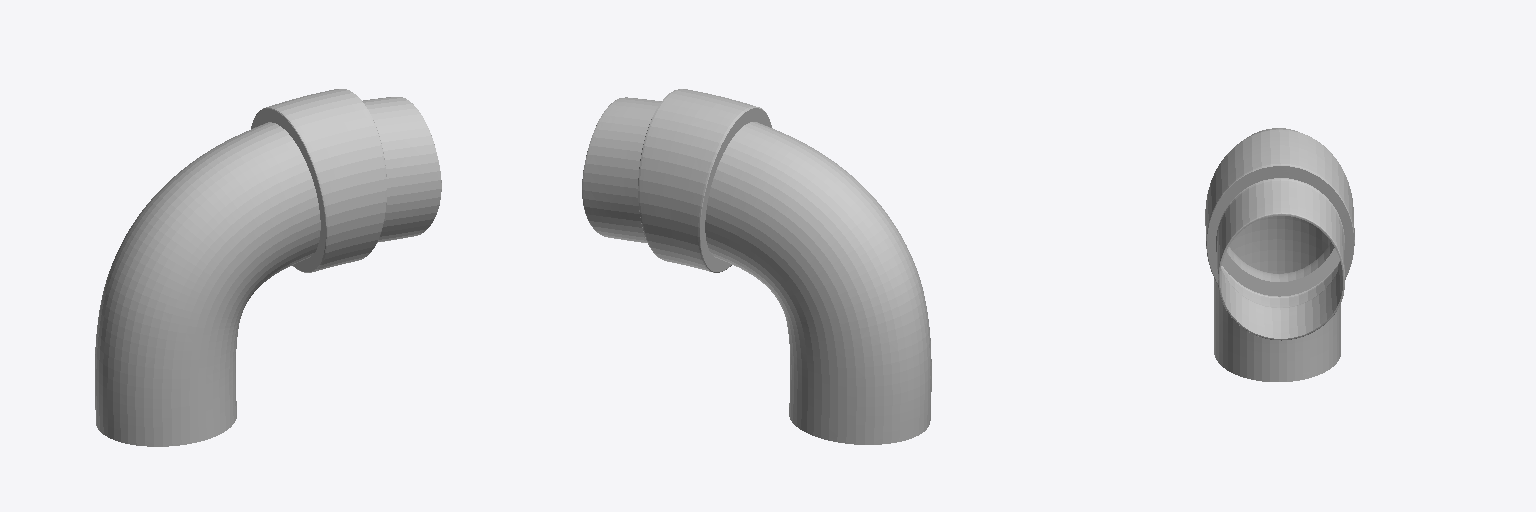
File: pot_tube.obj
The picture shows the model from 3 angles: view 1: azimuth 30°, elevation 25°; view 2: azimuth 150°, elevation 25°; view 3: azimuth 270°, elevation 25°; orthographic projection.
Parts seen in each view (by area): view 1: Drainage_Tube; view 2: Drainage_Tube; view 3: Drainage_Tube.
Boxes of the visible parts, x1,y1,x2,y2 form: Drainage_Tube: [95, 89, 441, 446]; Drainage_Tube: [582, 89, 931, 444]; Drainage_Tube: [1205, 128, 1354, 381].
Size of the model in its own units: 61.7 by 53.32 by 25.79.